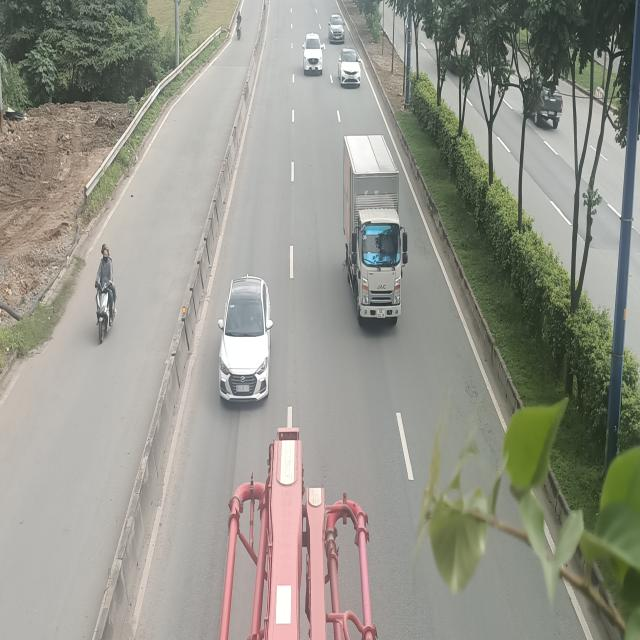car: (220, 278, 275, 409), (339, 48, 363, 91), (304, 35, 325, 78), (329, 15, 347, 45)
truck: (341, 134, 407, 328)
